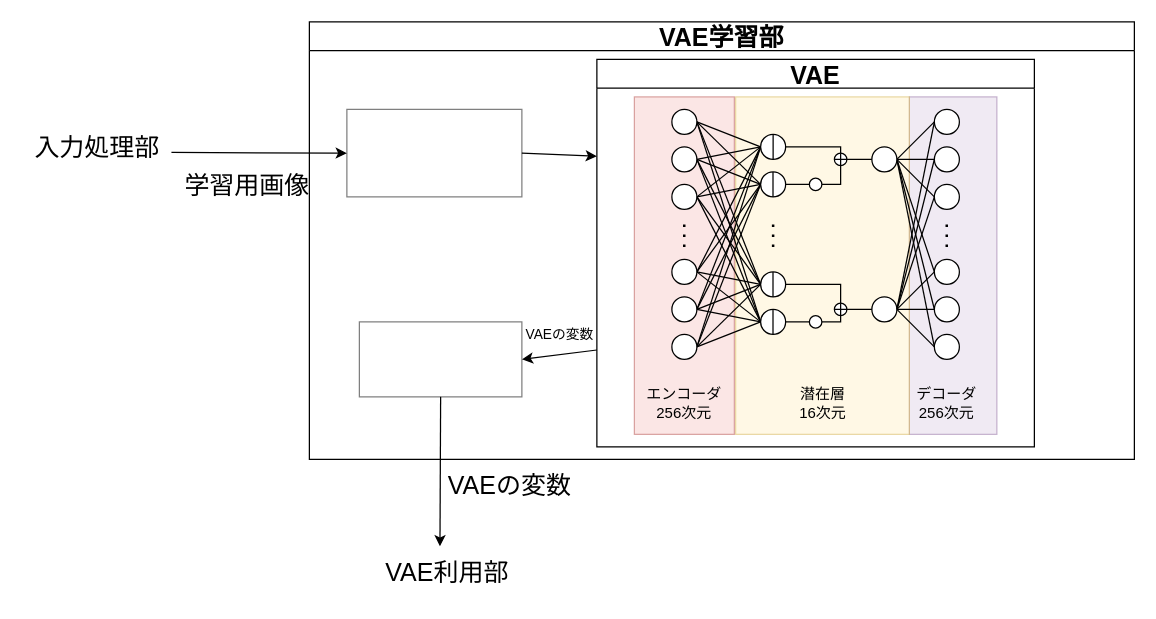
This 1156x619 diagram has some shape labels left out. The centre of each missing label's shape, as x and y in pixels:
"VAE入力処理" belongs at point (434, 152).
"VAE学習管理" belongs at point (440, 359).
